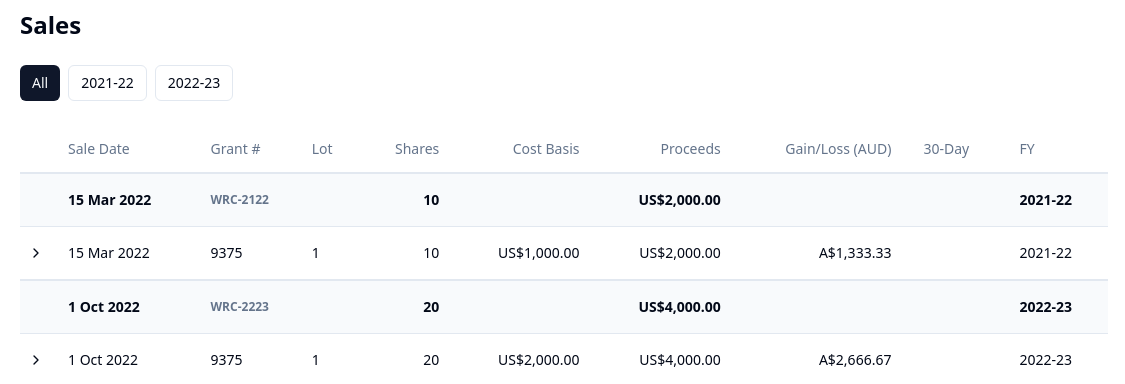
Scenario: SalesPage FY filtering › shows all lots again when 'All' is selected after filtering
The image size is (1125, 384).
Check: the text "WRC-2122" is shown, box [194,173,361,226]
# Filter to one FY
Click the button "2021-22".
click(108, 83)  # box [68,65,147,101]
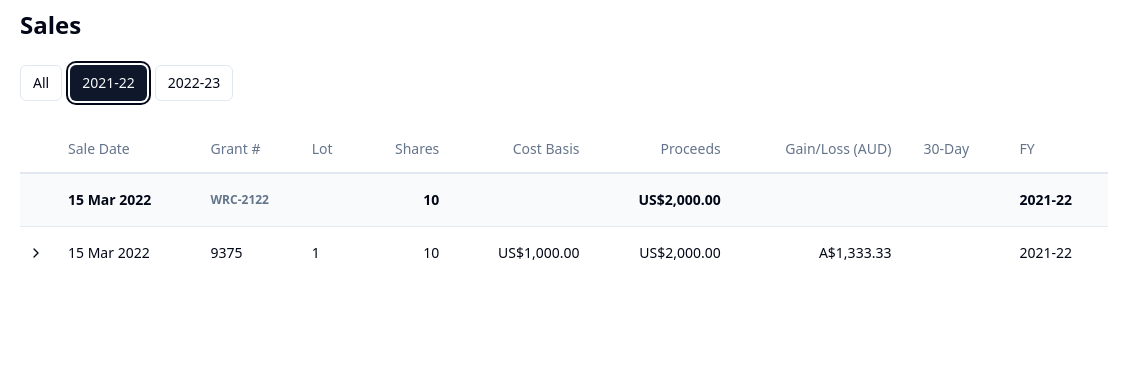
Check: the text "WRC-2223" is gone
# Back to all
Click the button "All".
click(41, 83)  # box [20,65,62,101]
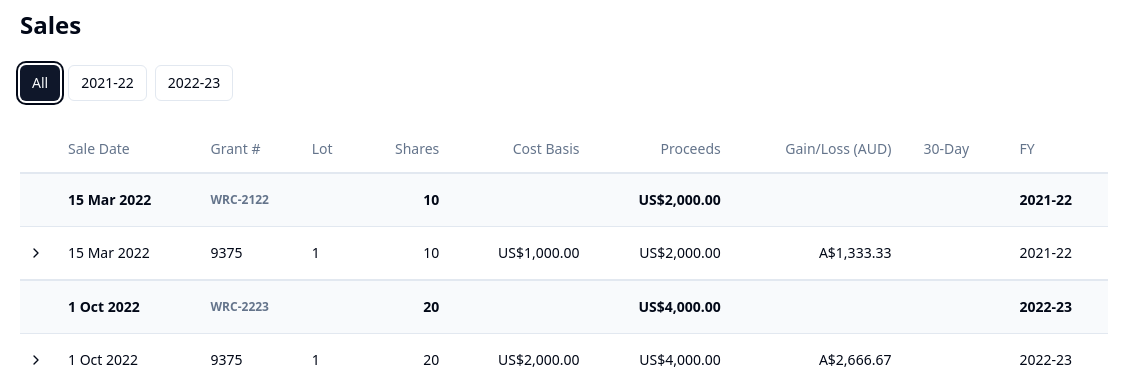
Check: the text "WRC-2122" is shown, box [194,173,361,226]
Check: the text "WRC-2223" is shown, box [194,280,361,334]
